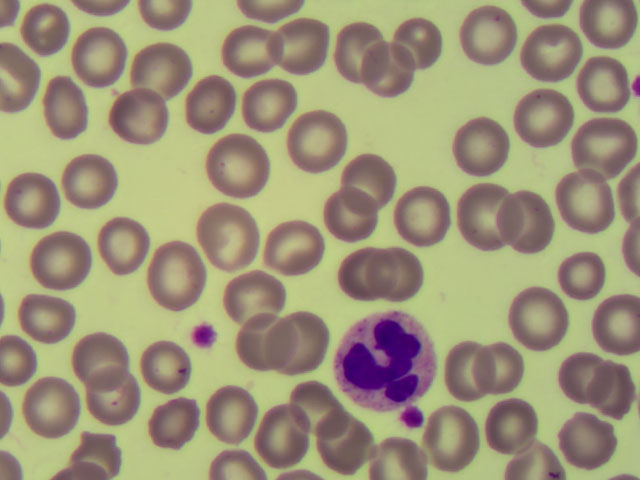Platelets: (192, 324, 216, 348), (400, 406, 424, 430)
RBC: (148, 240, 205, 313), (458, 183, 522, 248), (422, 404, 481, 473), (197, 204, 258, 267), (556, 349, 613, 406), (5, 172, 60, 229), (499, 190, 554, 247), (395, 185, 450, 242), (453, 117, 508, 174), (462, 6, 517, 63), (389, 12, 444, 69), (359, 42, 414, 99), (334, 25, 389, 82), (272, 16, 327, 73), (224, 17, 279, 74), (316, 411, 371, 468), (290, 378, 345, 435), (259, 407, 314, 464), (205, 384, 260, 441), (268, 218, 323, 275), (368, 245, 423, 302), (340, 243, 395, 300), (340, 152, 395, 209), (323, 184, 378, 241), (289, 110, 344, 167), (238, 74, 293, 131), (131, 40, 186, 97), (181, 73, 236, 130), (111, 88, 166, 145), (39, 78, 94, 135), (209, 136, 264, 193), (70, 27, 125, 84), (272, 313, 327, 370), (237, 314, 292, 371), (227, 270, 282, 327), (25, 376, 80, 433), (84, 367, 139, 424), (73, 329, 128, 386), (95, 216, 150, 273), (63, 151, 118, 208), (33, 233, 88, 290), (145, 394, 200, 451), (584, 359, 639, 416), (19, 288, 74, 345), (487, 396, 542, 453), (560, 410, 615, 467), (585, 295, 640, 352), (573, 56, 628, 113), (469, 337, 524, 394), (444, 338, 499, 395), (512, 287, 567, 344), (557, 172, 612, 229), (575, 115, 630, 172), (515, 87, 570, 144), (525, 24, 580, 81), (19, 2, 74, 59), (135, 335, 190, 392), (578, 1, 638, 50), (1, 39, 40, 109), (70, 429, 123, 480), (554, 250, 606, 298), (371, 437, 423, 480), (506, 442, 563, 480), (1, 335, 37, 385), (210, 446, 262, 480), (137, 1, 191, 31), (614, 164, 640, 224), (617, 218, 640, 280), (522, 1, 578, 20), (1, 380, 18, 436), (1, 444, 25, 480)
WBC: (333, 311, 437, 406)
